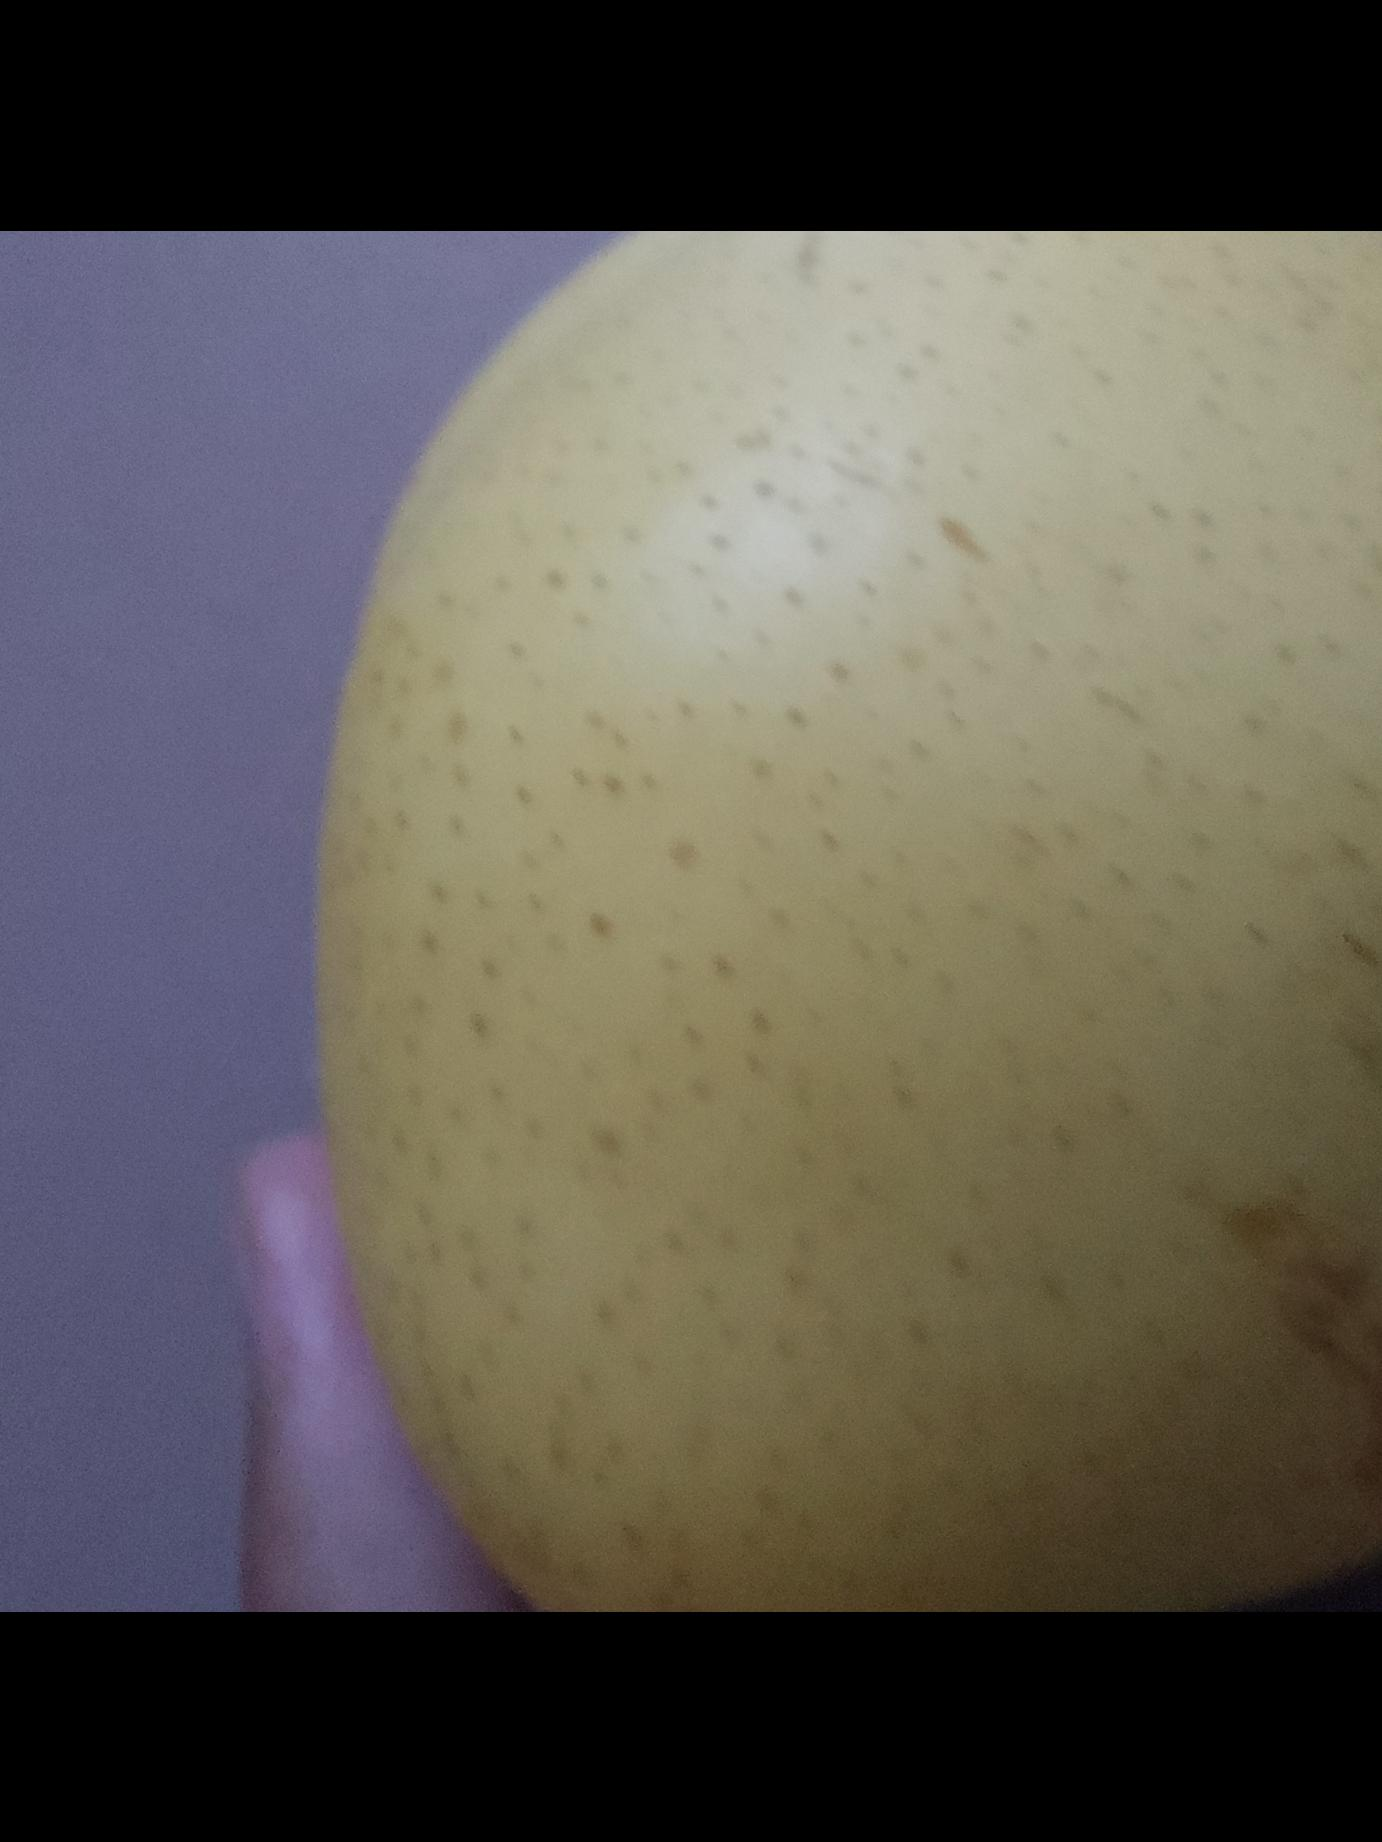Good Pear: (332, 229, 1382, 1613)
